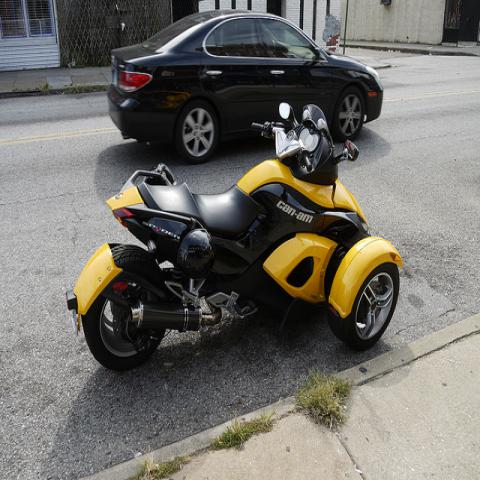car: (107, 10, 383, 162)
motorcycle: (66, 101, 405, 374)
